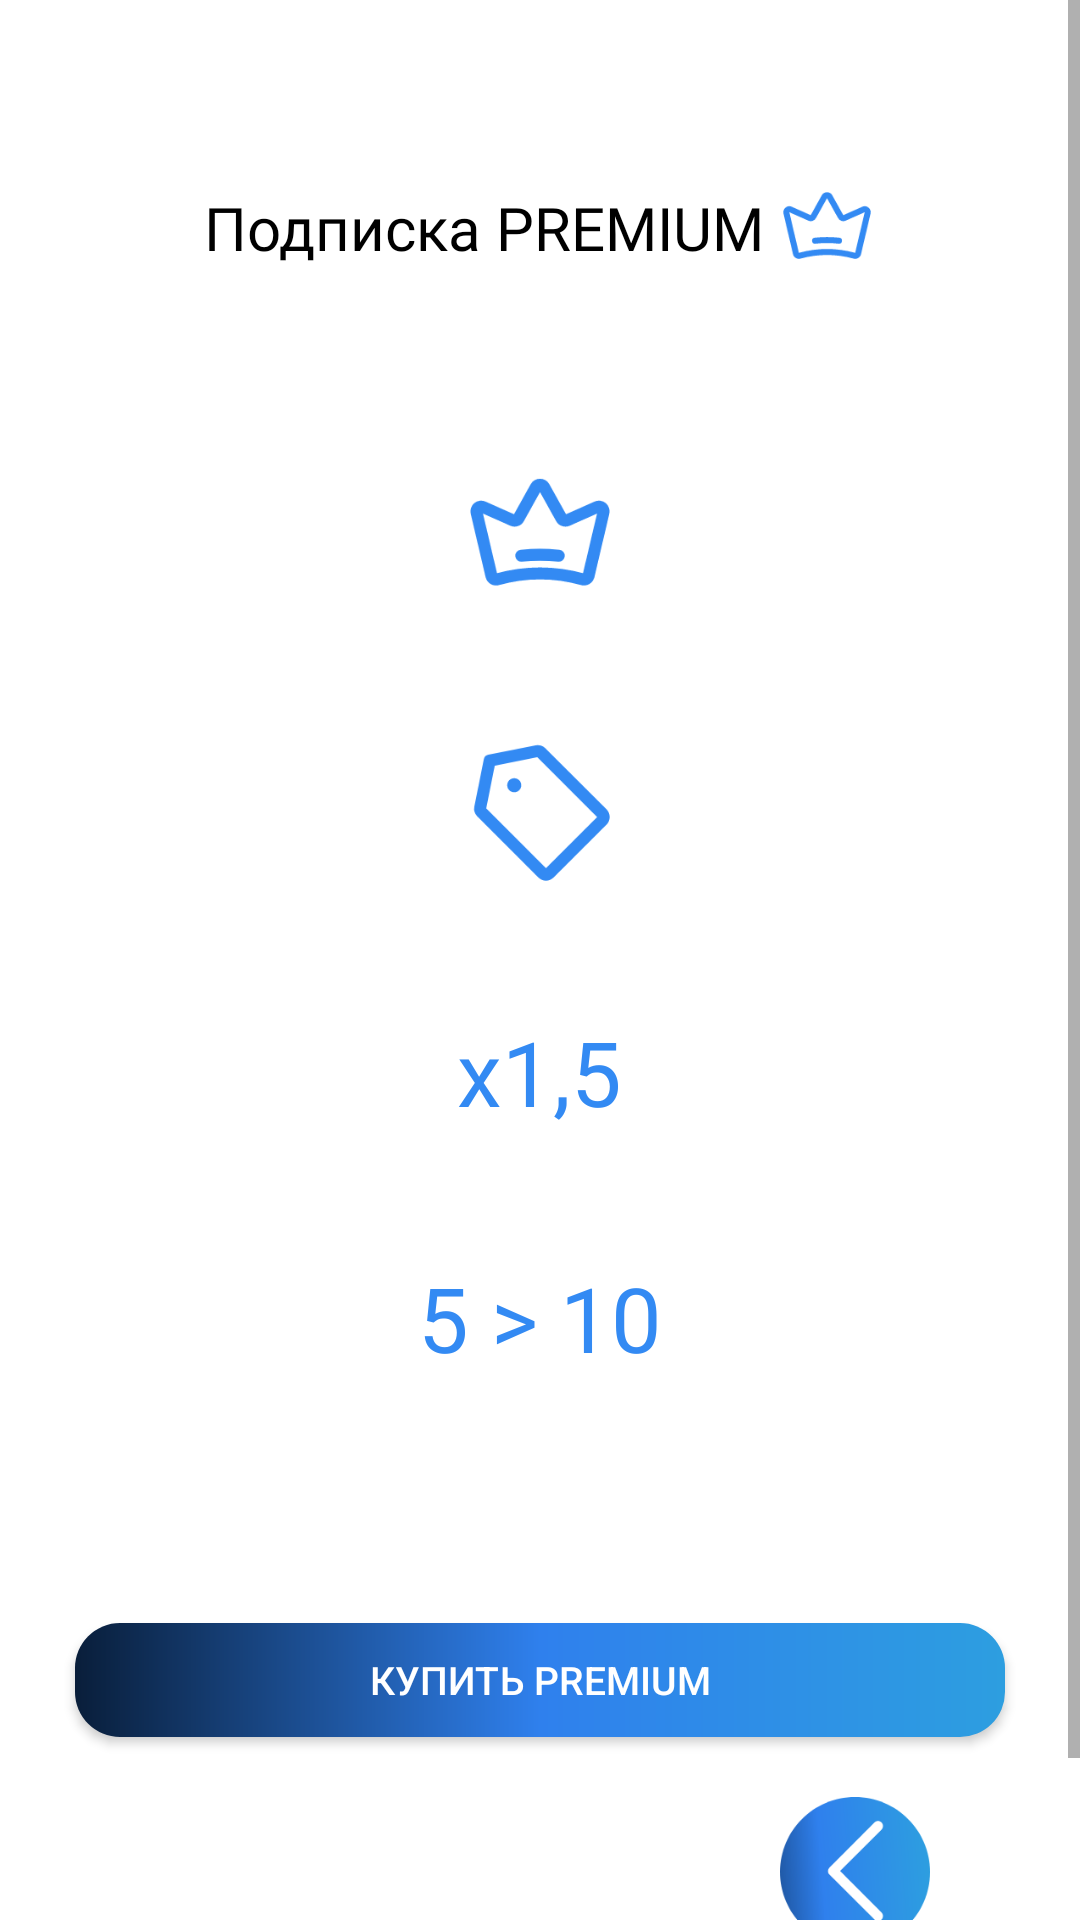

Icon bounding boxes for this 1080px×1920px phone screenshot, format (x1, y1, x2, y2):
coupon: (473, 745, 610, 881)
